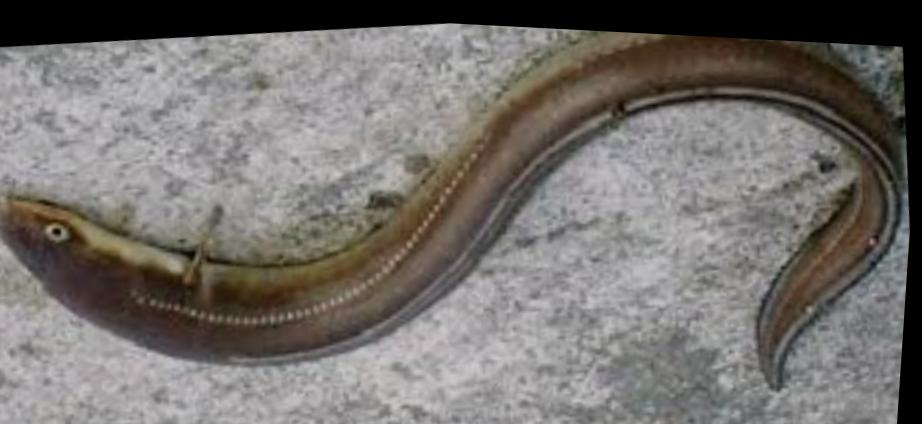fish: (0, 25, 902, 379)
